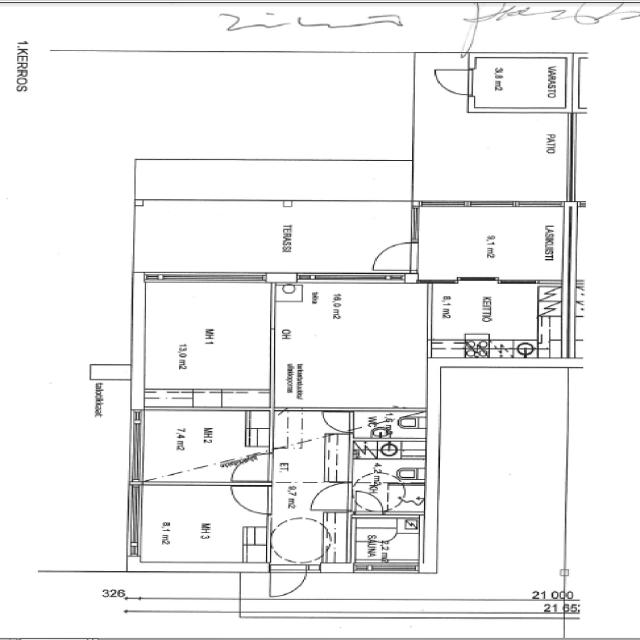door: (368, 238, 417, 274), (264, 562, 310, 600), (430, 66, 478, 98), (225, 452, 273, 484), (228, 483, 274, 516), (308, 481, 351, 512), (319, 409, 355, 435), (352, 488, 386, 513)
window: (289, 269, 410, 286), (151, 269, 265, 284), (125, 411, 149, 482), (122, 485, 146, 554), (406, 203, 422, 244), (363, 563, 418, 574)
zone: (274, 280, 429, 410), (134, 281, 274, 407), (130, 484, 268, 568), (415, 205, 563, 281), (428, 280, 572, 356), (132, 408, 272, 483), (468, 56, 572, 112), (272, 411, 355, 480), (267, 516, 353, 566), (349, 513, 422, 571), (350, 440, 424, 486), (349, 410, 426, 441), (377, 484, 425, 513)
